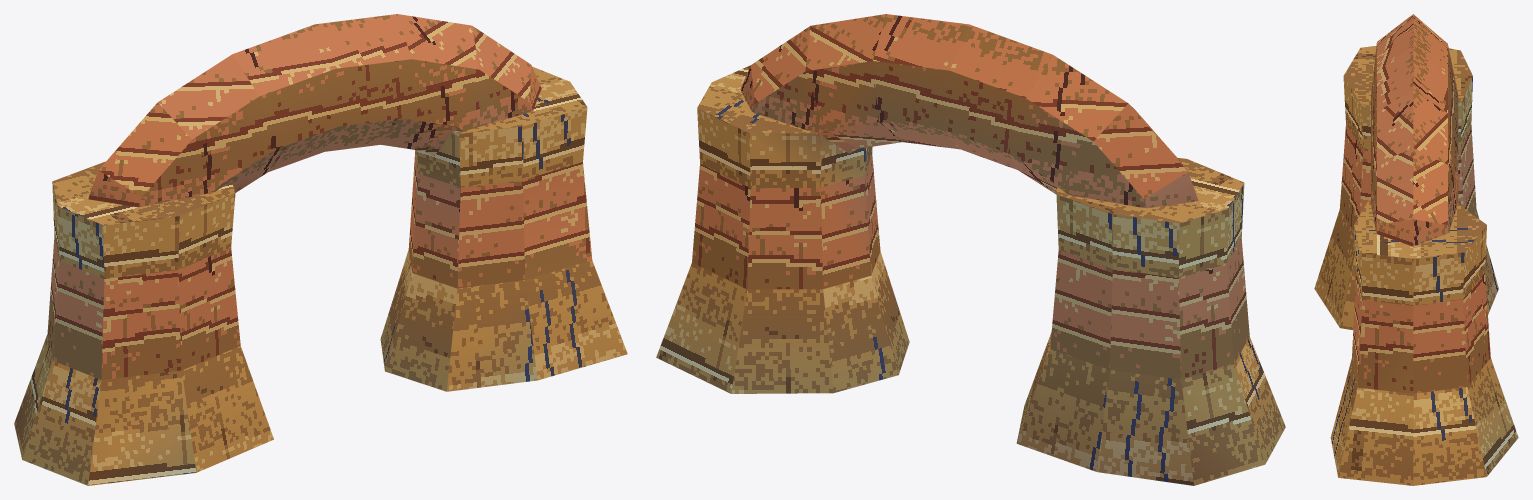
The model's file is wland.arch__small.glb.
3 views of the same model, side by side, from view 1: azimuth 30°, elevation 25°; view 2: azimuth 150°, elevation 25°; view 3: azimuth 270°, elevation 25° (orthographic). The views are drawn at different scales.
Visible parts, largest first — view 1: kit_legs, kit_span; view 2: kit_legs, kit_span; view 3: kit_legs, kit_span.
Boxes of the visible parts, x1,y1,x2,y2 form: kit_legs: (14, 66, 627, 485); kit_span: (88, 14, 541, 207); kit_legs: (656, 65, 1285, 485); kit_span: (740, 14, 1198, 208); kit_legs: (1314, 46, 1518, 485); kit_span: (1371, 14, 1458, 246).
Size of the model in its own units: 9.96 by 5.96 by 3.48.
3 materials, 3 textured.
